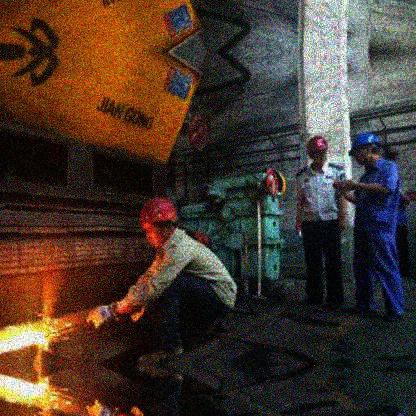helmet: (139, 198, 178, 246), (348, 134, 382, 167), (307, 136, 329, 164)
